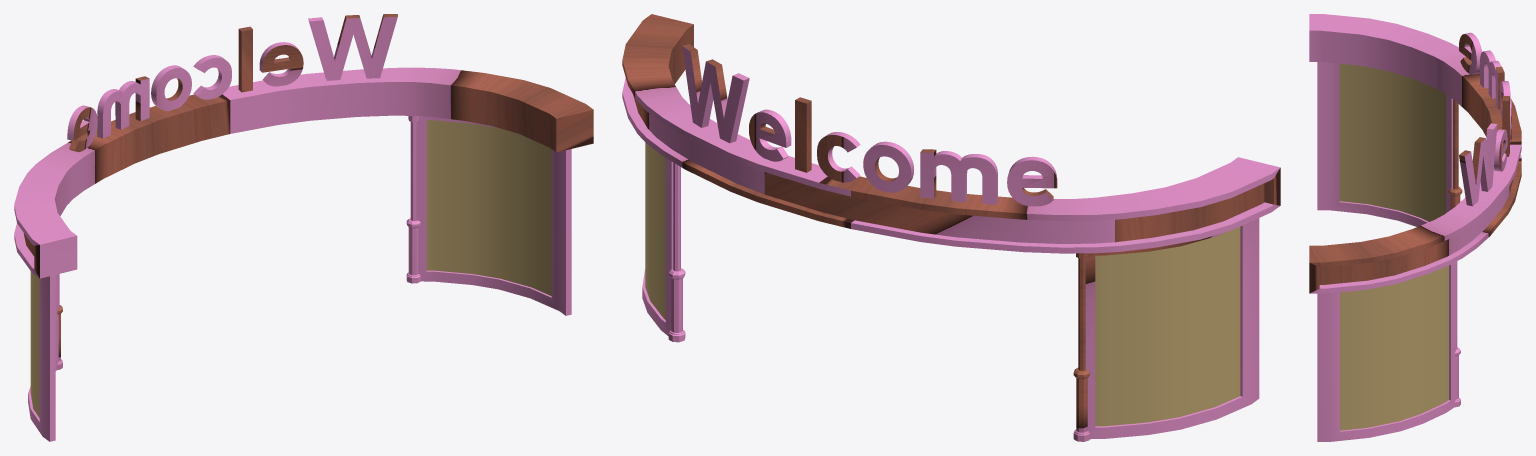
File: Entrance.fbx
3 views of the same model, side by side, from view 1: azimuth 30°, elevation 25°; view 2: azimuth 150°, elevation 25°; view 3: azimuth 270°, elevation 25° (orthographic). The views are drawn at different scales.
Visible parts, largest first — view 1: Entrance_Top_low, polySurface28, polySurface30, Entrance_W_low, Entrance_M_low, Entrance_E1_low, Entrance_O_low, Entrance_E2_low, Entrance_C_low, Entrance_L_low; view 2: Entrance_Top_low, polySurface28, polySurface30, Entrance_W_low, Entrance_M_low, Entrance_E2_low, Entrance_O_low, Entrance_E1_low, Entrance_C_low, Entrance_L_low; view 3: polySurface28, Entrance_Top_low, polySurface30, Entrance_W_low, Entrance_M_low, Entrance_E2_low, Entrance_E1_low, Entrance_L_low, Entrance_O_low.
Part boxes in pixels (box(x1,y1,x2,y2)): Entrance_Top_low: box(14, 67, 593, 278); polySurface28: box(30, 120, 551, 417); polySurface30: box(28, 116, 571, 441); Entrance_W_low: box(308, 14, 397, 80); Entrance_M_low: box(97, 76, 149, 138); Entrance_E1_low: box(259, 42, 303, 86); Entrance_O_low: box(151, 65, 191, 111); Entrance_E2_low: box(67, 105, 97, 151); Entrance_C_low: box(193, 55, 231, 99); Entrance_L_low: box(238, 26, 252, 92); Entrance_Top_low: box(622, 14, 1280, 253); polySurface28: box(645, 143, 1240, 426); polySurface30: box(642, 158, 1259, 441); Entrance_W_low: box(682, 44, 749, 143); Entrance_M_low: box(920, 149, 997, 204); Entrance_E2_low: box(1007, 156, 1057, 206); Entrance_O_low: box(863, 141, 914, 192); Entrance_E1_low: box(749, 109, 791, 161); Entrance_C_low: box(817, 132, 860, 182); Entrance_L_low: box(795, 97, 811, 172); polySurface28: box(1339, 63, 1448, 430); Entrance_Top_low: box(1309, 14, 1521, 293); polySurface30: box(1317, 62, 1462, 441); Entrance_W_low: box(1459, 123, 1497, 206); Entrance_M_low: box(1480, 50, 1504, 109); Entrance_E2_low: box(1459, 32, 1481, 74); Entrance_E1_low: box(1494, 129, 1507, 171); Entrance_L_low: box(1502, 96, 1509, 156); Entrance_O_low: box(1499, 81, 1510, 119).
Size of the model in its own units: 6.75 by 3.09 by 2.44.
